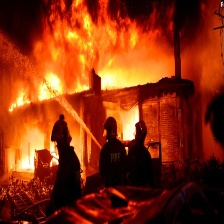fire: (4, 10, 147, 114), (18, 143, 61, 172)
